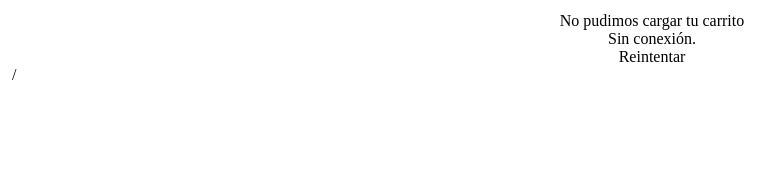
Test: CartContainer › shows the error and retries
The image size is (761, 172).
Check: the message shows "Sin conexión.", box [608,30,696,47]
Click the button "Reintentar". click: (652, 57)
box: [619,48,685,66]
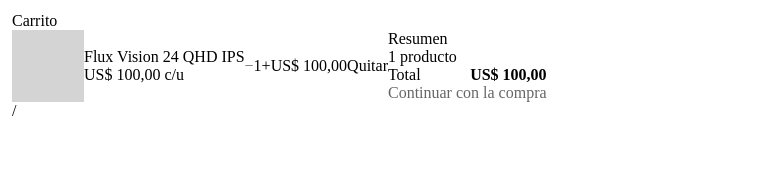
Check: the list named "Productos del carrito" is shown, box [12,30,388,102]
